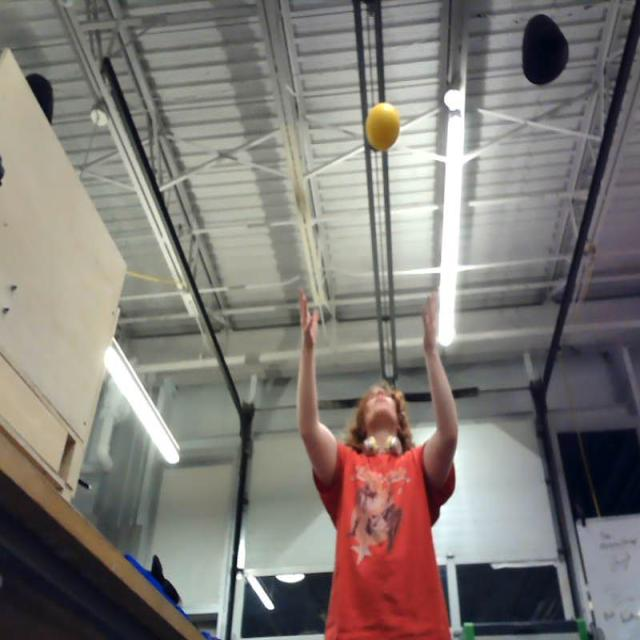Fuel: (366, 103, 400, 150)
